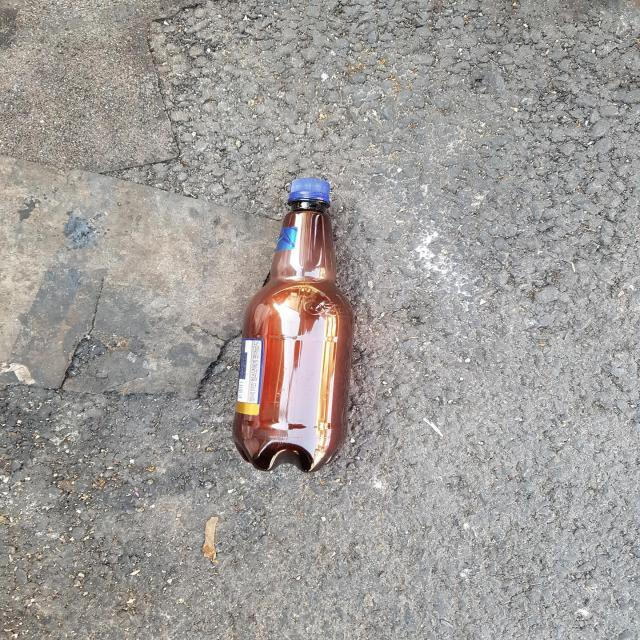plastic: (232, 178, 353, 473)
